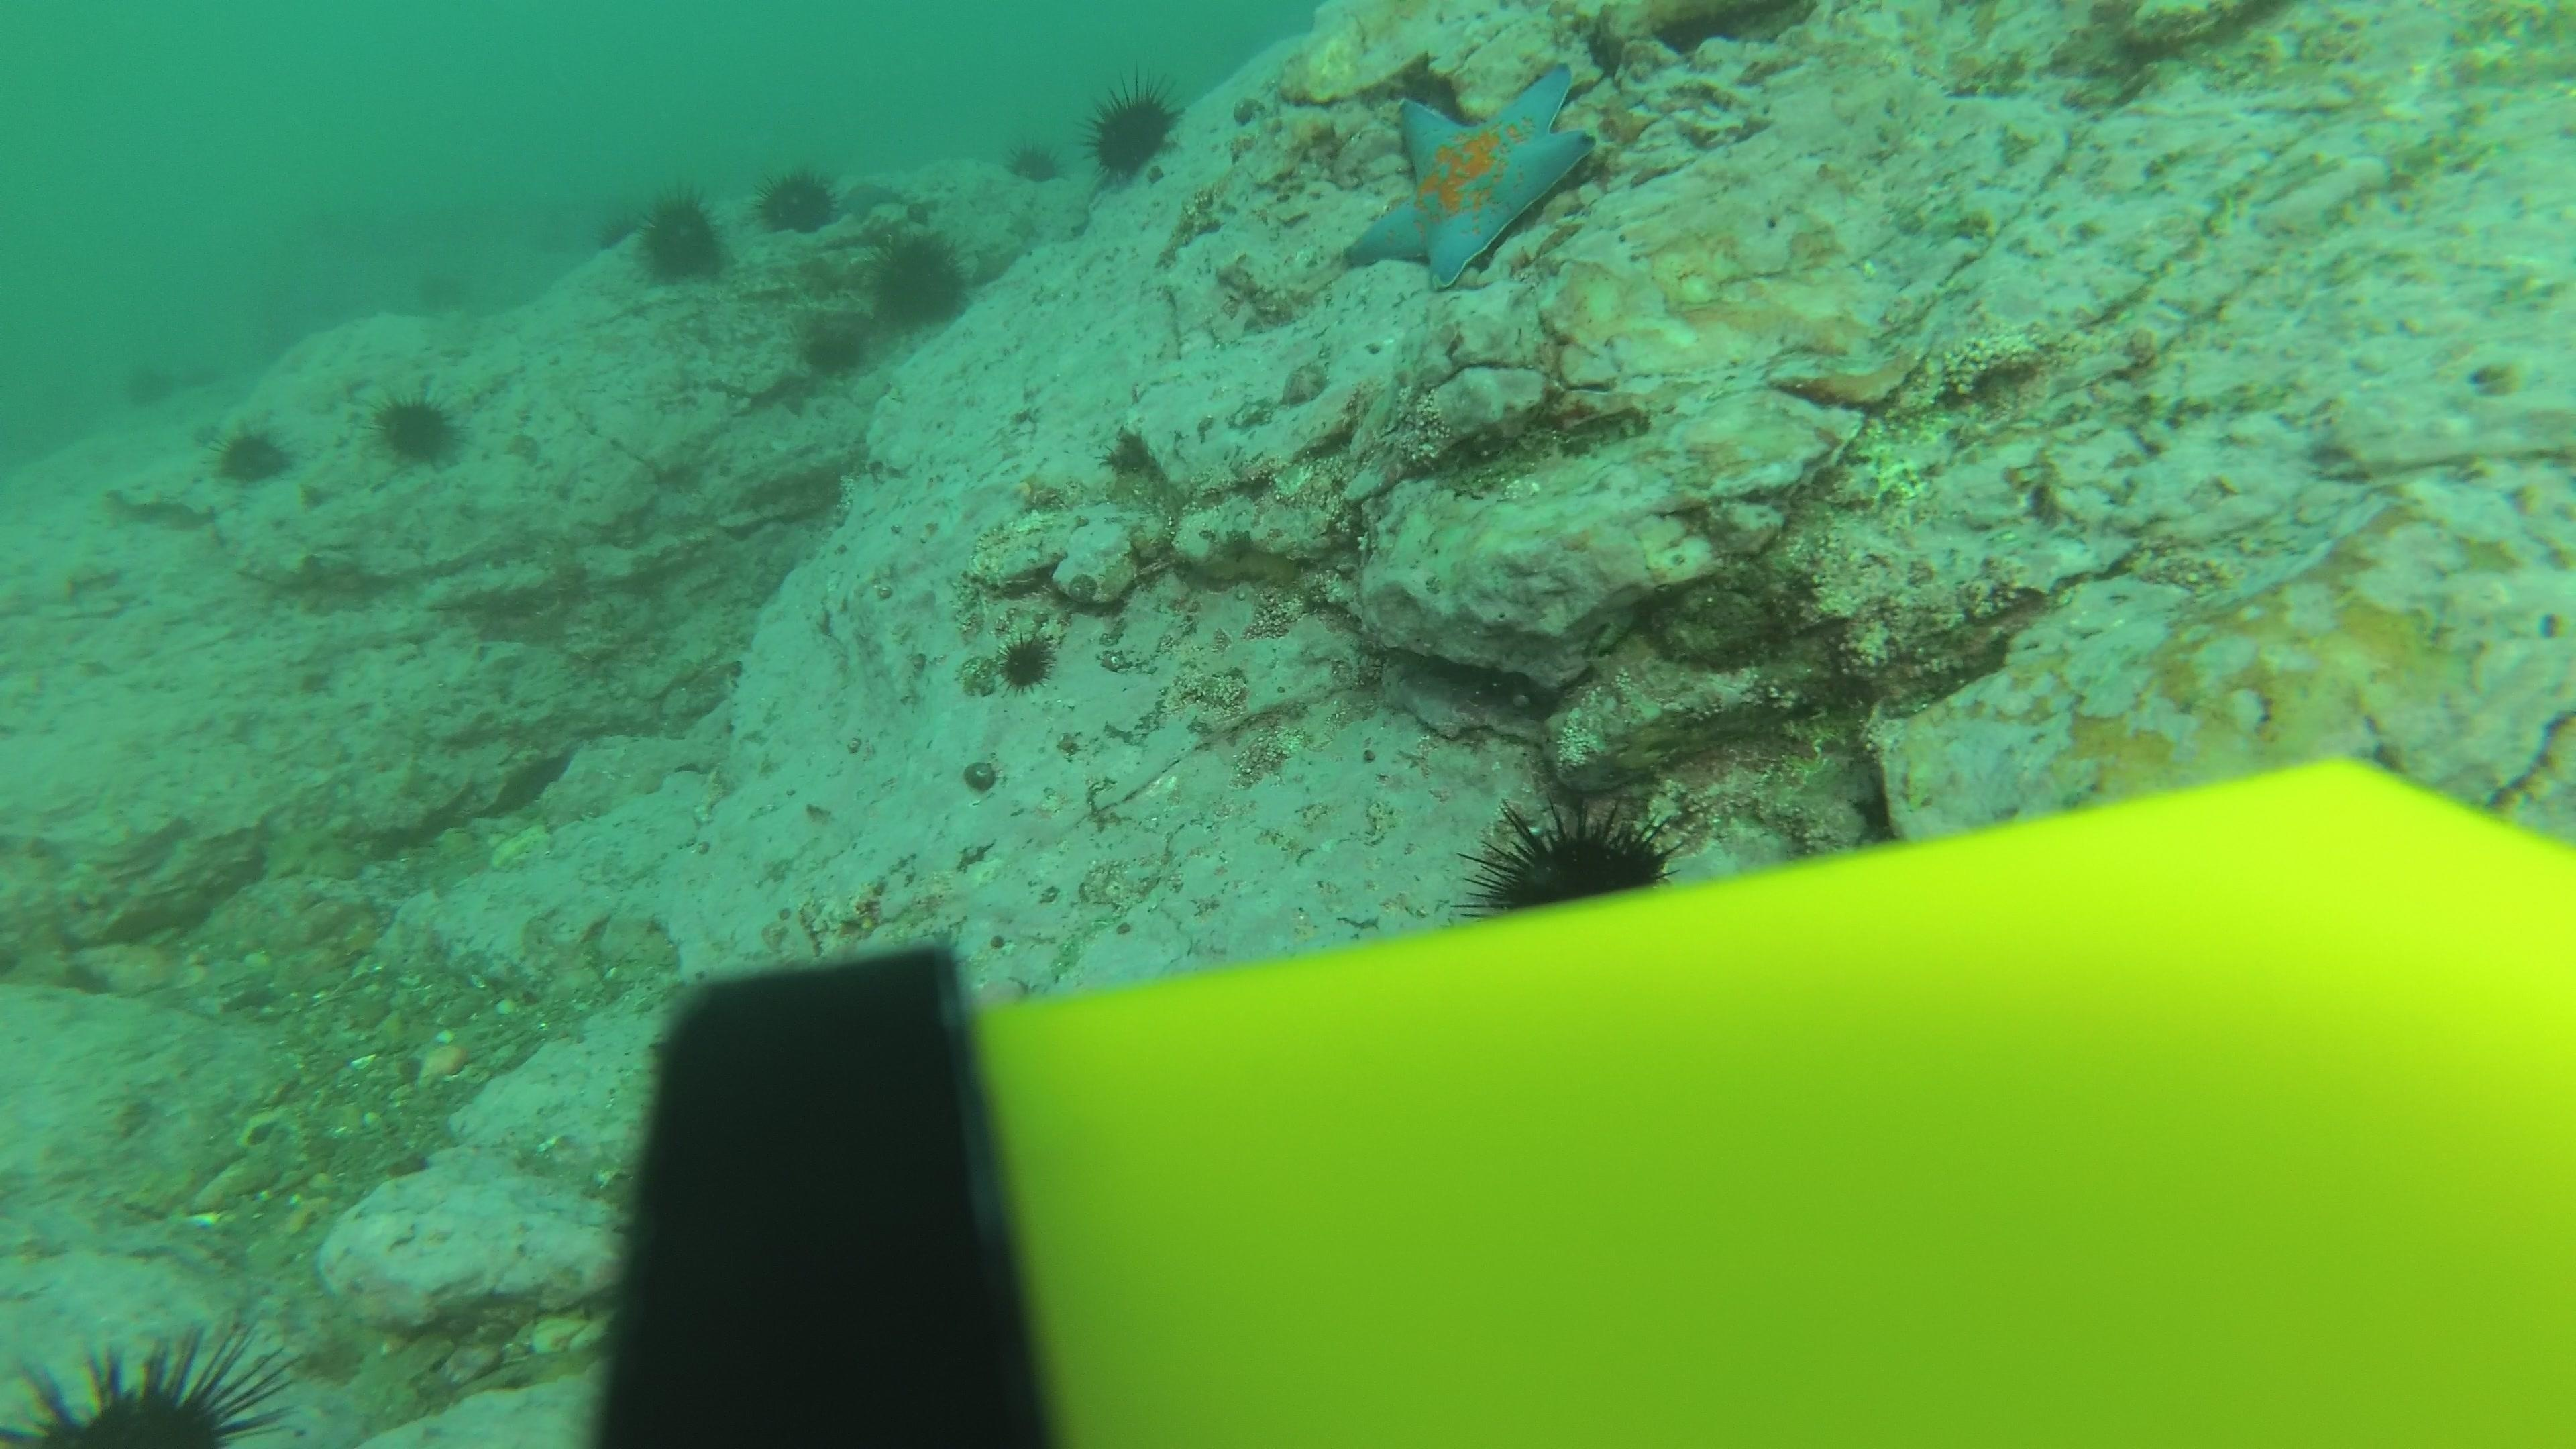echinus: (5, 1318, 304, 1440), (1463, 794, 1683, 915), (867, 228, 971, 333), (1083, 78, 1184, 184), (630, 186, 729, 287), (368, 384, 465, 471), (755, 161, 839, 235), (211, 416, 294, 488), (796, 315, 869, 380), (594, 212, 649, 264), (124, 370, 177, 421), (403, 267, 456, 318), (996, 635, 1051, 685), (1007, 136, 1060, 186)
starfish: (1341, 64, 1599, 290), (1656, 814, 1799, 886), (835, 172, 927, 223)
